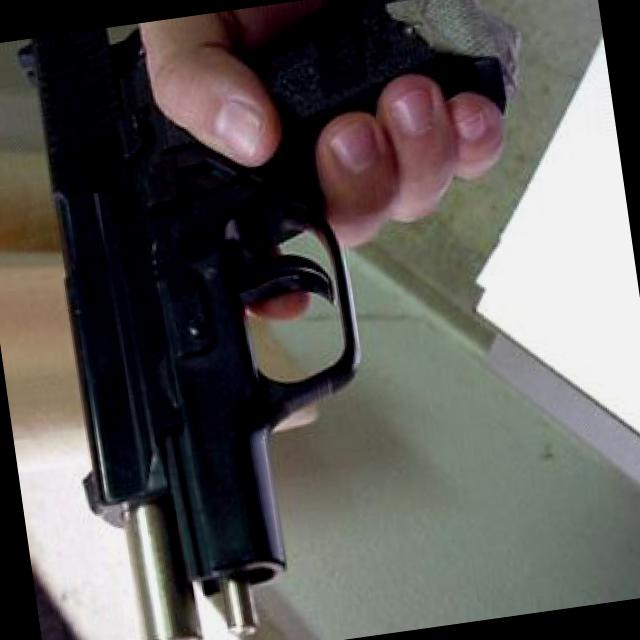handgun: (19, 0, 575, 639)
